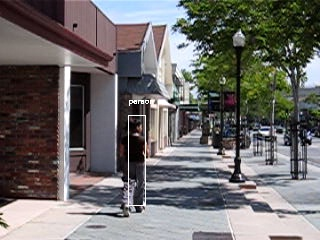person: (119, 118, 150, 218), (118, 118, 149, 218), (120, 118, 151, 218), (119, 117, 150, 217), (119, 119, 150, 219)
target_negative: (68, 98, 274, 143), (36, 75, 276, 112), (12, 211, 160, 232), (186, 129, 279, 162), (236, 177, 245, 232), (260, 232, 303, 239)
